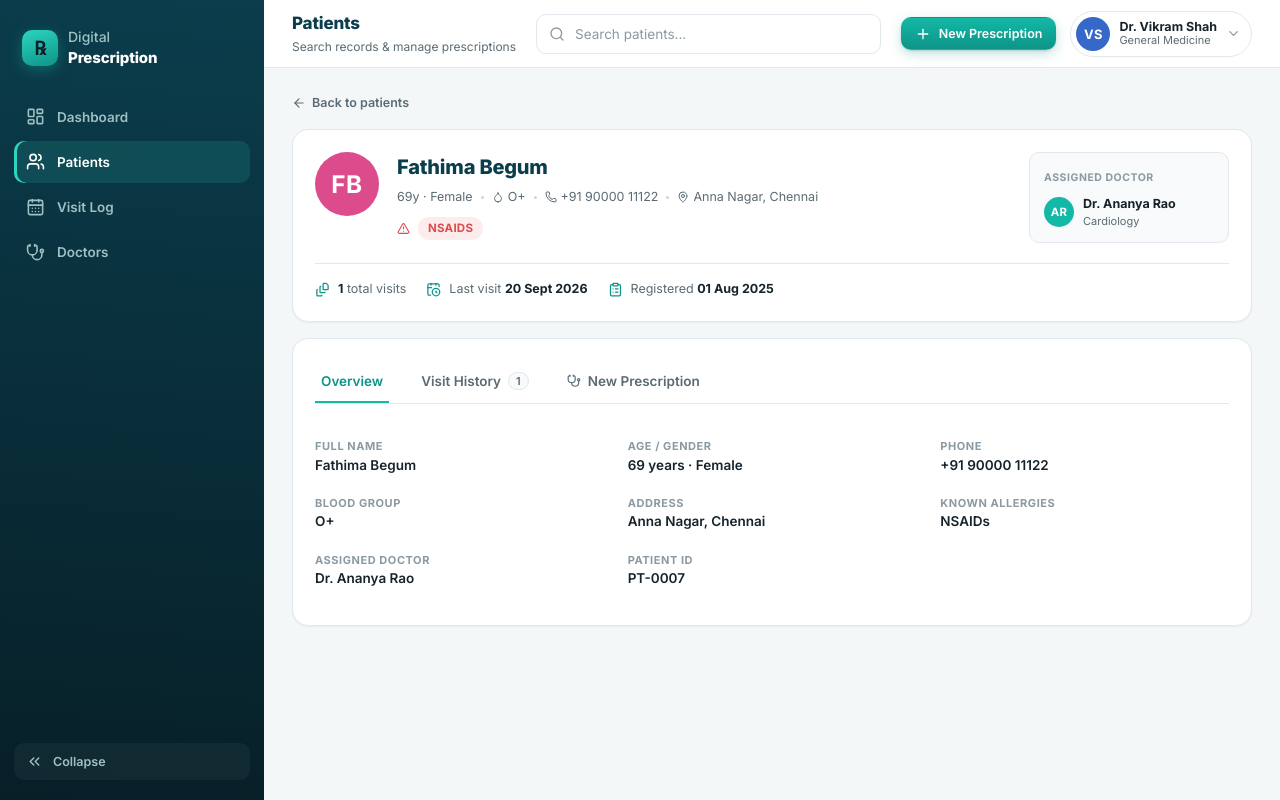
Test: PatientDetailPage › shows the visit history timeline with print links
Click the tab "Visit History 1".
click(475, 382)  # box 415,360 -> 535,402
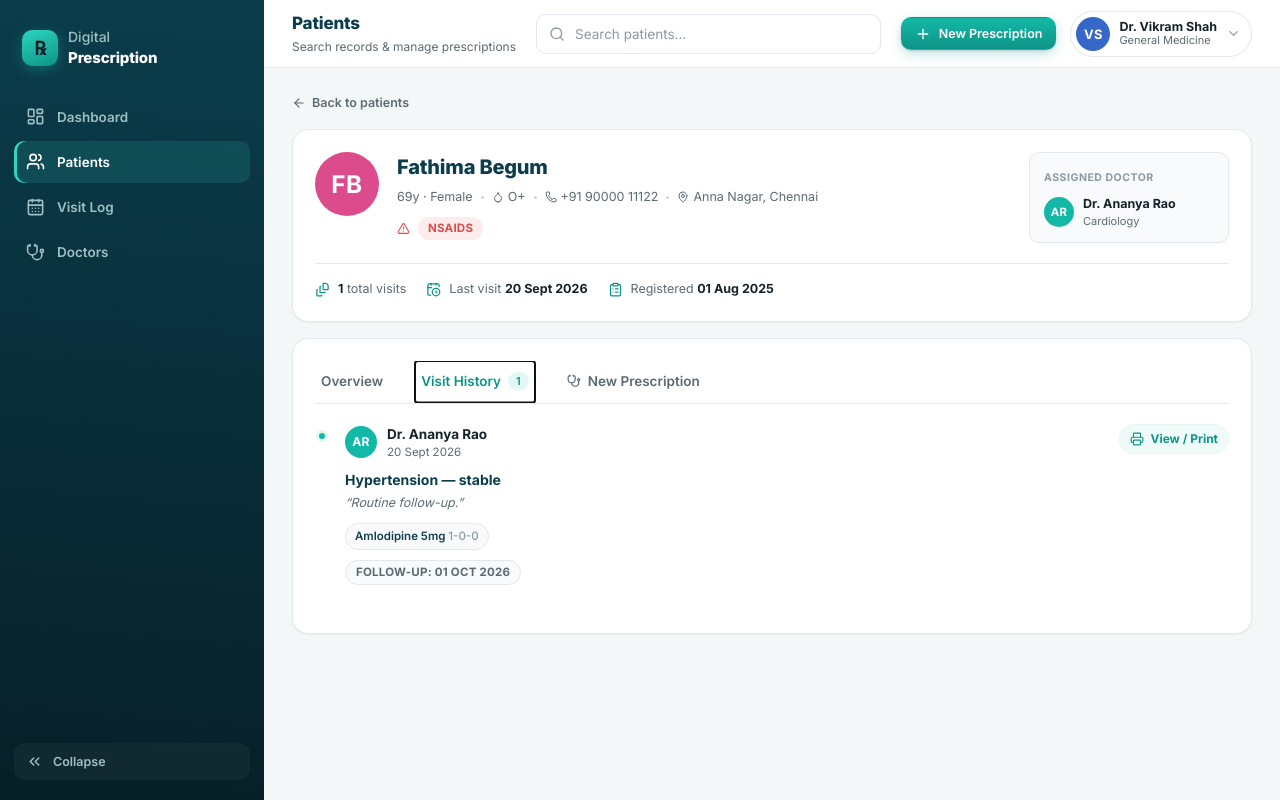
Result: the text "Hypertension — stable" is shown at 345,471 -> 501,488
Result: the text "Amlodipine 5mg" is shown at 355,529 -> 445,543
